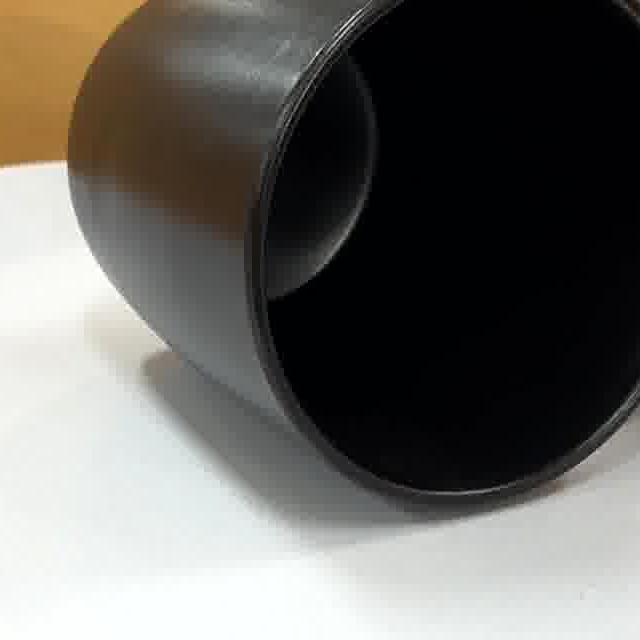cup: (91, 0, 640, 512)
